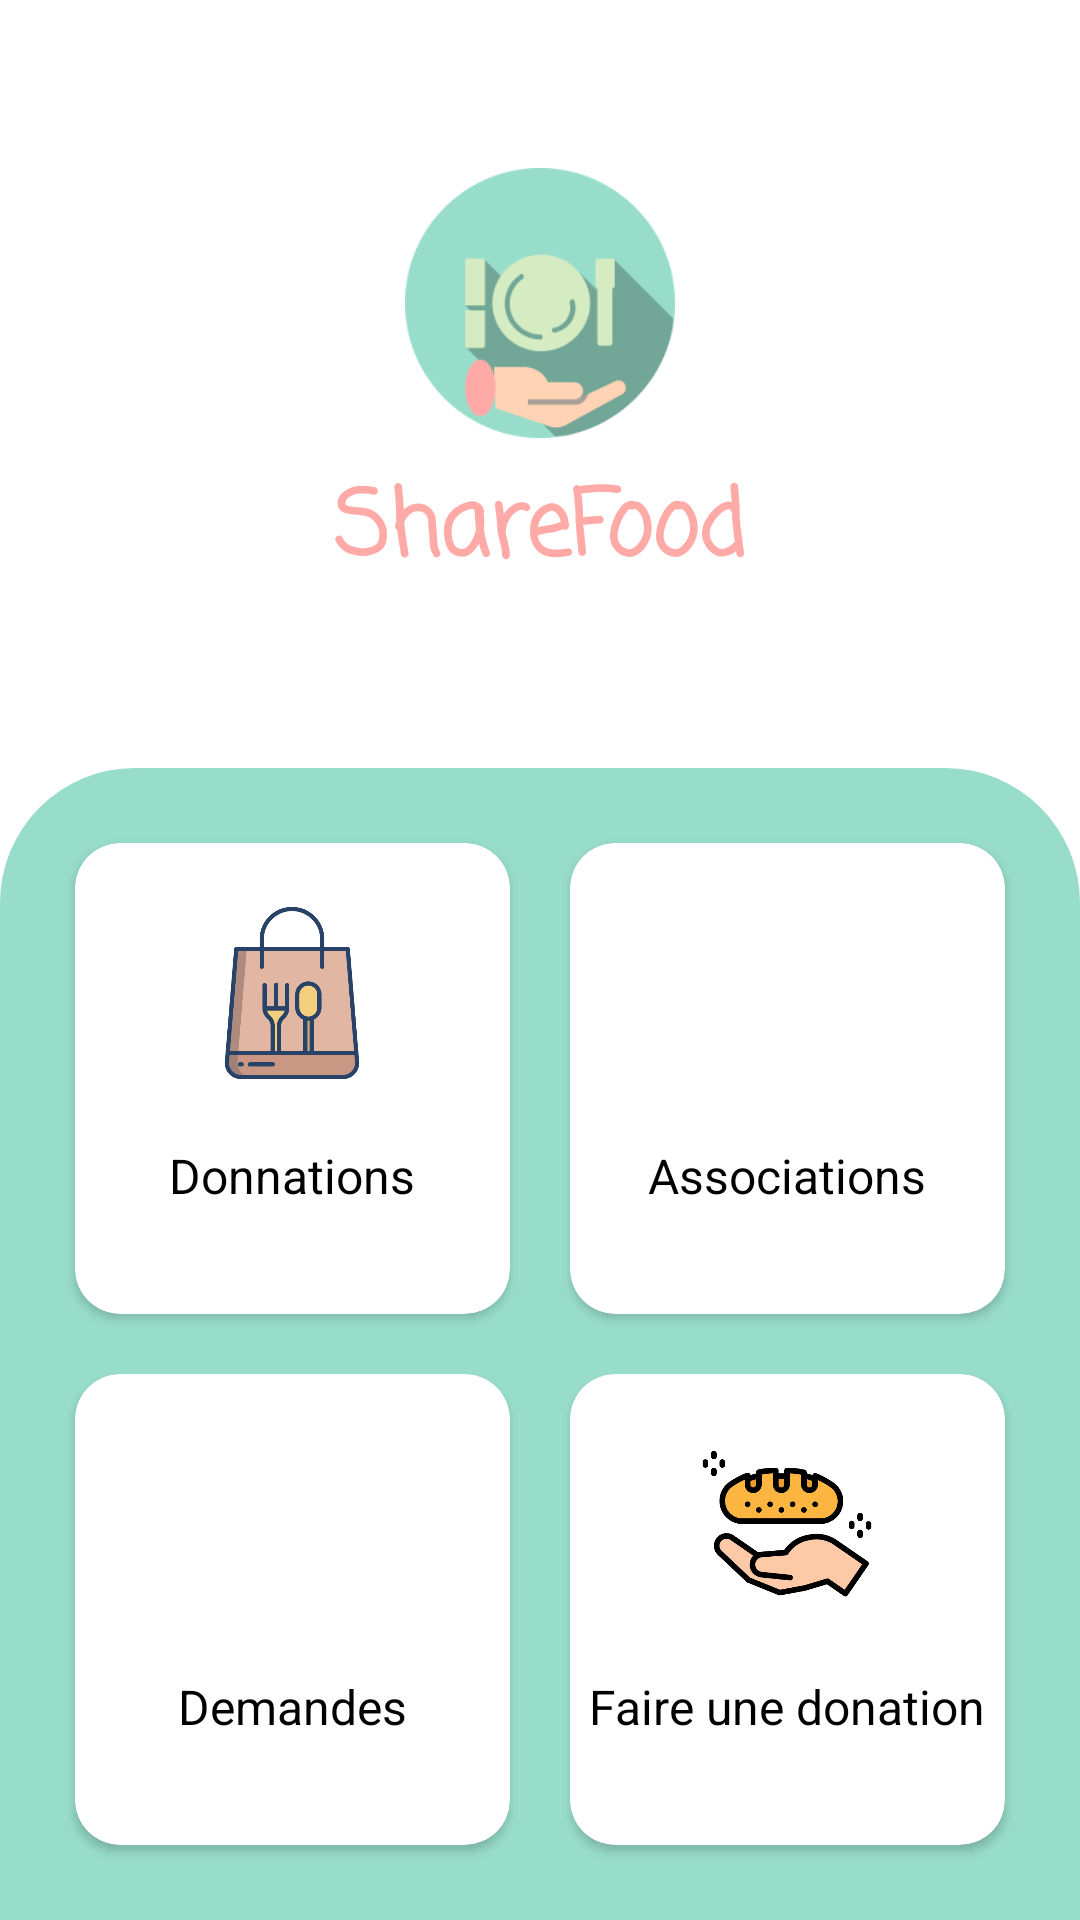

Icons on this 1080 x 1920 Android screen, each with its box as (x1, y1, x2, y2):
repas: (225, 907, 359, 1079)
